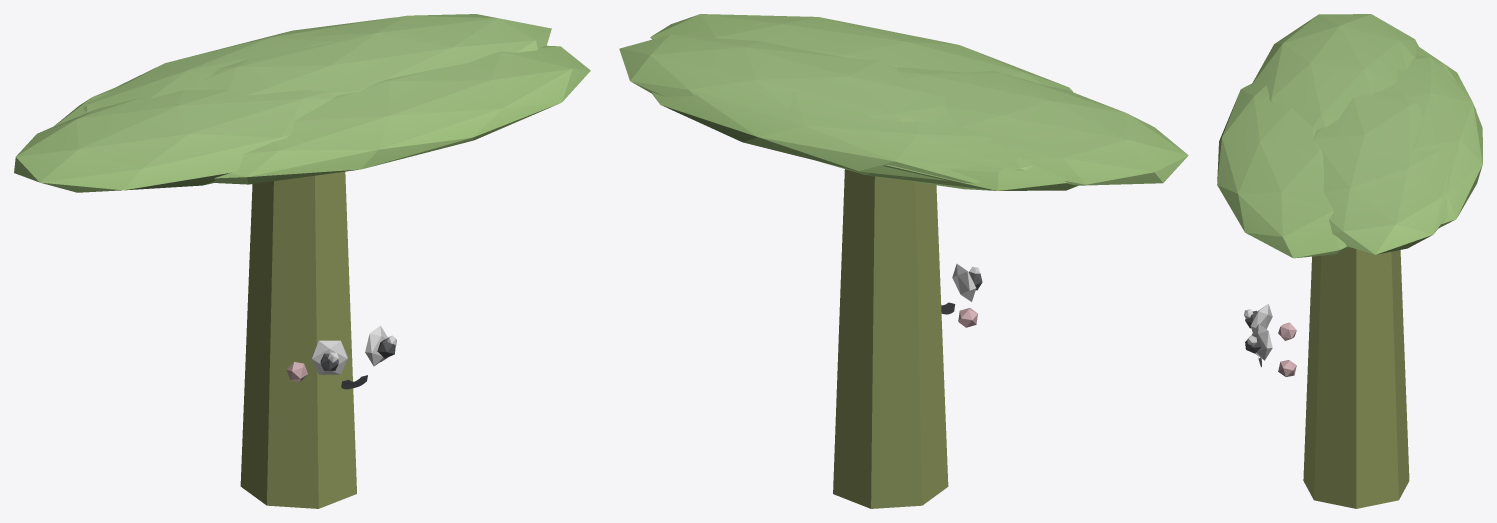
Rendered from hellenia-speciosa.glb.
The picture shows the model from 3 angles, left to right: view 1: azimuth 30°, elevation 25°; view 2: azimuth 150°, elevation 25°; view 3: azimuth 270°, elevation 25°; orthographic projection. The views are drawn at different scales.
Parts seen in each view (by area): view 1: pseudostem, leaf1, leaf2, leaf0, leaf3, pface-eye-r; view 2: pseudostem, leaf2, leaf0, leaf3, leaf1, leaf4; view 3: pseudostem, leaf0, leaf1, leaf2, leaf3, pface-eye-l, pface-eye-r, leaf4.
Boxes of the visible parts, x1=… form: pseudostem: x1=240, y1=171, x2=356, y2=508; leaf1: x1=213, y1=45, x2=590, y2=184; leaf2: x1=14, y1=89, x2=336, y2=192; leaf0: x1=203, y1=14, x2=551, y2=95; leaf3: x1=83, y1=17, x2=395, y2=112; pface-eye-r: x1=312, y1=340, x2=347, y2=374; pseudostem: x1=833, y1=169, x2=948, y2=508; leaf2: x1=896, y1=67, x2=1188, y2=185; leaf0: x1=619, y1=34, x2=947, y2=122; leaf3: x1=652, y1=92, x2=1034, y2=183; leaf1: x1=650, y1=14, x2=1073, y2=92; leaf4: x1=820, y1=161, x2=1078, y2=190; pseudostem: x1=1303, y1=247, x2=1409, y2=508; leaf0: x1=1313, y1=91, x2=1449, y2=254; leaf1: x1=1217, y1=83, x2=1349, y2=258; leaf2: x1=1251, y1=14, x2=1418, y2=130; leaf3: x1=1372, y1=54, x2=1482, y2=228; pface-eye-l: x1=1252, y1=324, x2=1272, y2=360; pface-eye-r: x1=1250, y1=304, x2=1272, y2=332; leaf4: x1=1416, y1=45, x2=1476, y2=110.
Size of the model in its own units: 0.6235 by 0.4461 by 0.2931.
